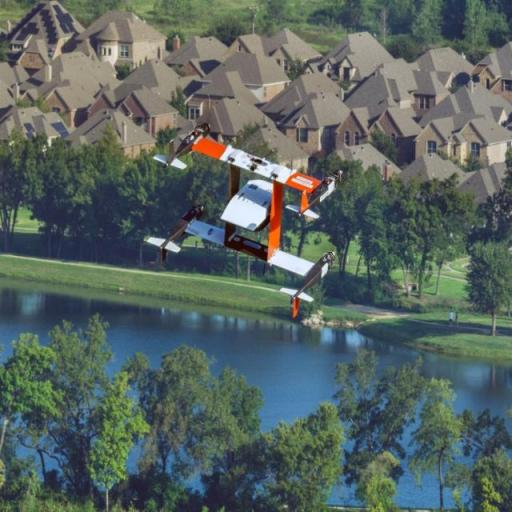uav: (144, 114, 338, 324)
